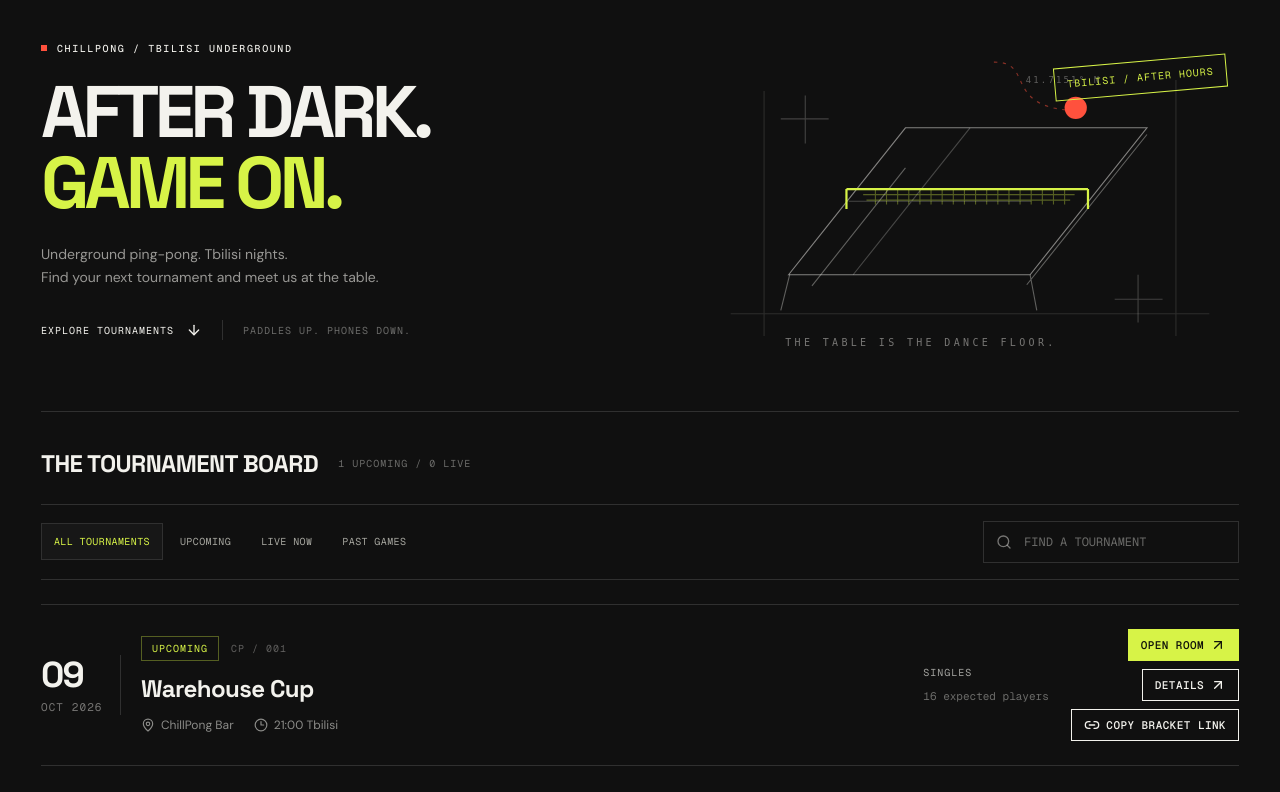
Test: public club directory and tournament board › lets visitors read tournament details without changing the tournament
Step 1. Click the button named "Details for Warehouse Cup" → (1190, 685), box [1142,669,1239,701]
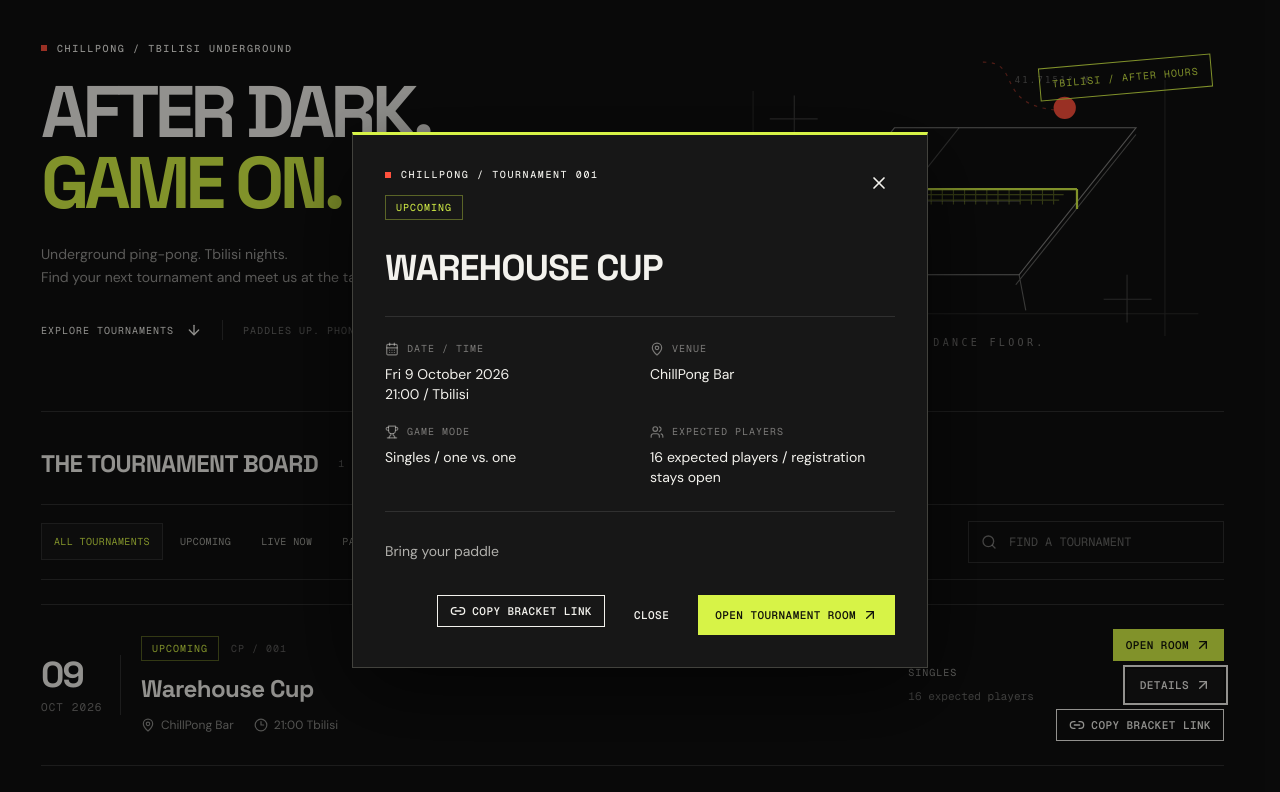
Expected: the text "Bring your paddle" is shown, [385,542,499,560]
Expected: the text "16 expected players / registration stays open" is shown, [650,447,895,487]
Expected: the text "Fri 9 October 202621:00 / Tbilisi" is shown, [385,365,509,403]
